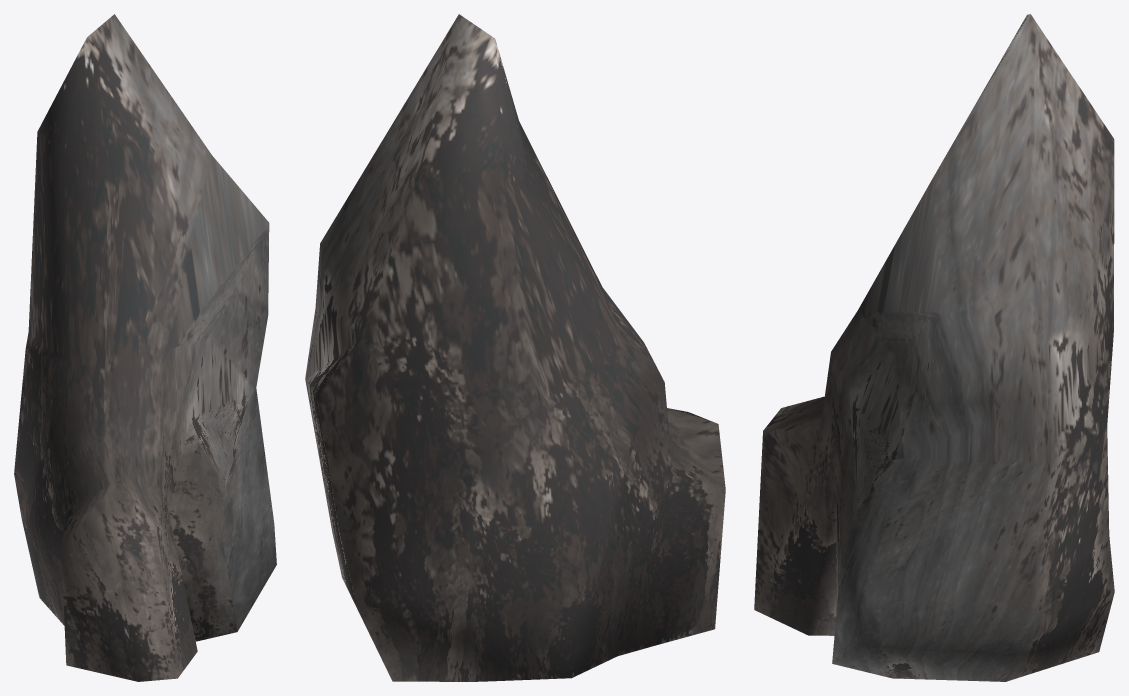
Rendered from stone13.fbx.
The picture shows the model from 3 angles, left to right: view 1: azimuth 30°, elevation 25°; view 2: azimuth 150°, elevation 25°; view 3: azimuth 270°, elevation 25°; orthographic projection. The views are drawn at different scales.
Visible parts, largest first — view 1: polySurface10; view 2: polySurface10; view 3: polySurface10.
Part boxes in pixels (x1=…): polySurface10: x1=14, y1=14, x2=276, y2=681; polySurface10: x1=305, y1=14, x2=725, y2=681; polySurface10: x1=754, y1=14, x2=1114, y2=681.
Bounding box in the file's own units: 1.75 × 3.57 × 1.83.
Materials: 1 (1 with a texture image).
